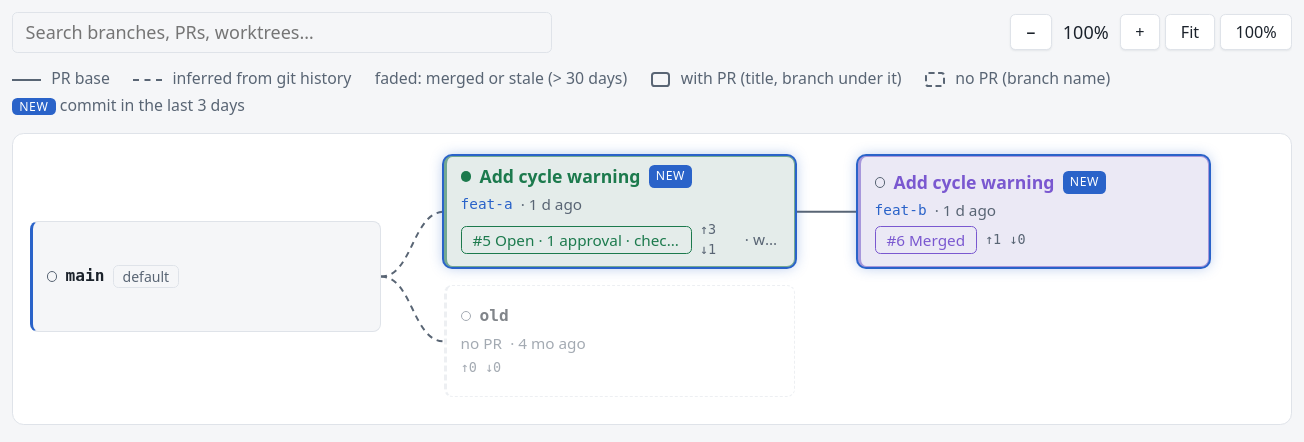
Test: BranchGraph › search › says when nothing matches and clears with the button
This screenshot has width=1304, height=442.
Type "zzz" into the search field with placeholder "Search branches, PRs, worktrees…" at (282, 32), box [12,12,552,52]
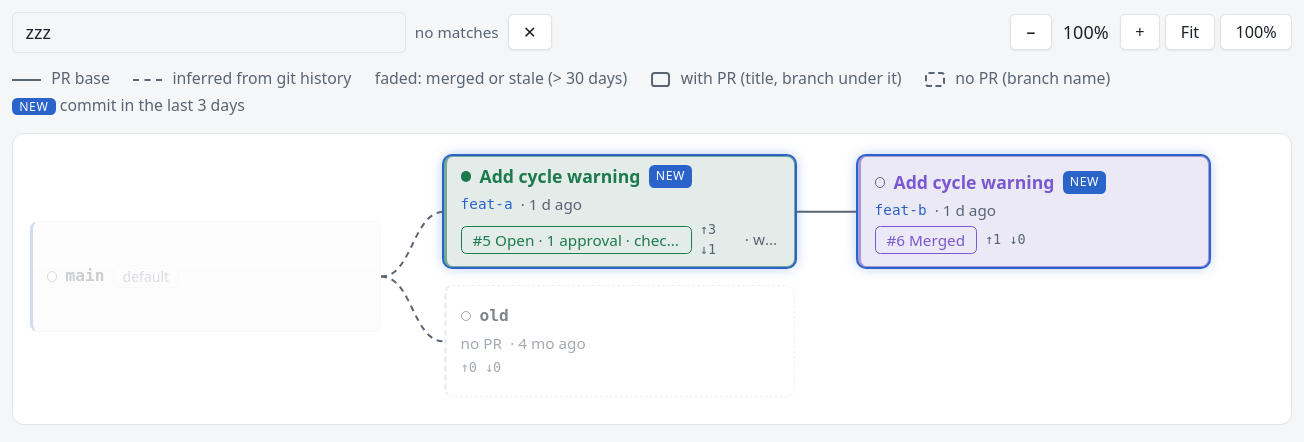
Expected: the number of buttons with class "dim" is 4, [30,220,381,332]; [444,156,795,267]; [858,156,1209,267]; [444,285,795,397]
Now the text "no matches" is shown, box [415,21,499,44]
Click the button "✕" at (530, 32), box [508,14,552,50]
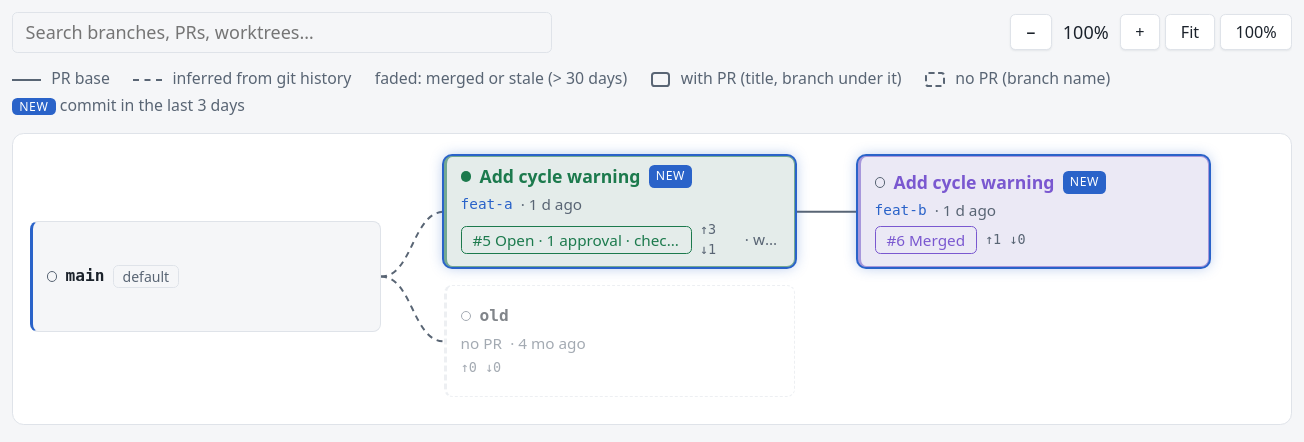
Now the search field with placeholder "Search branches, PRs, worktrees…" is empty, box [12,12,552,52]
